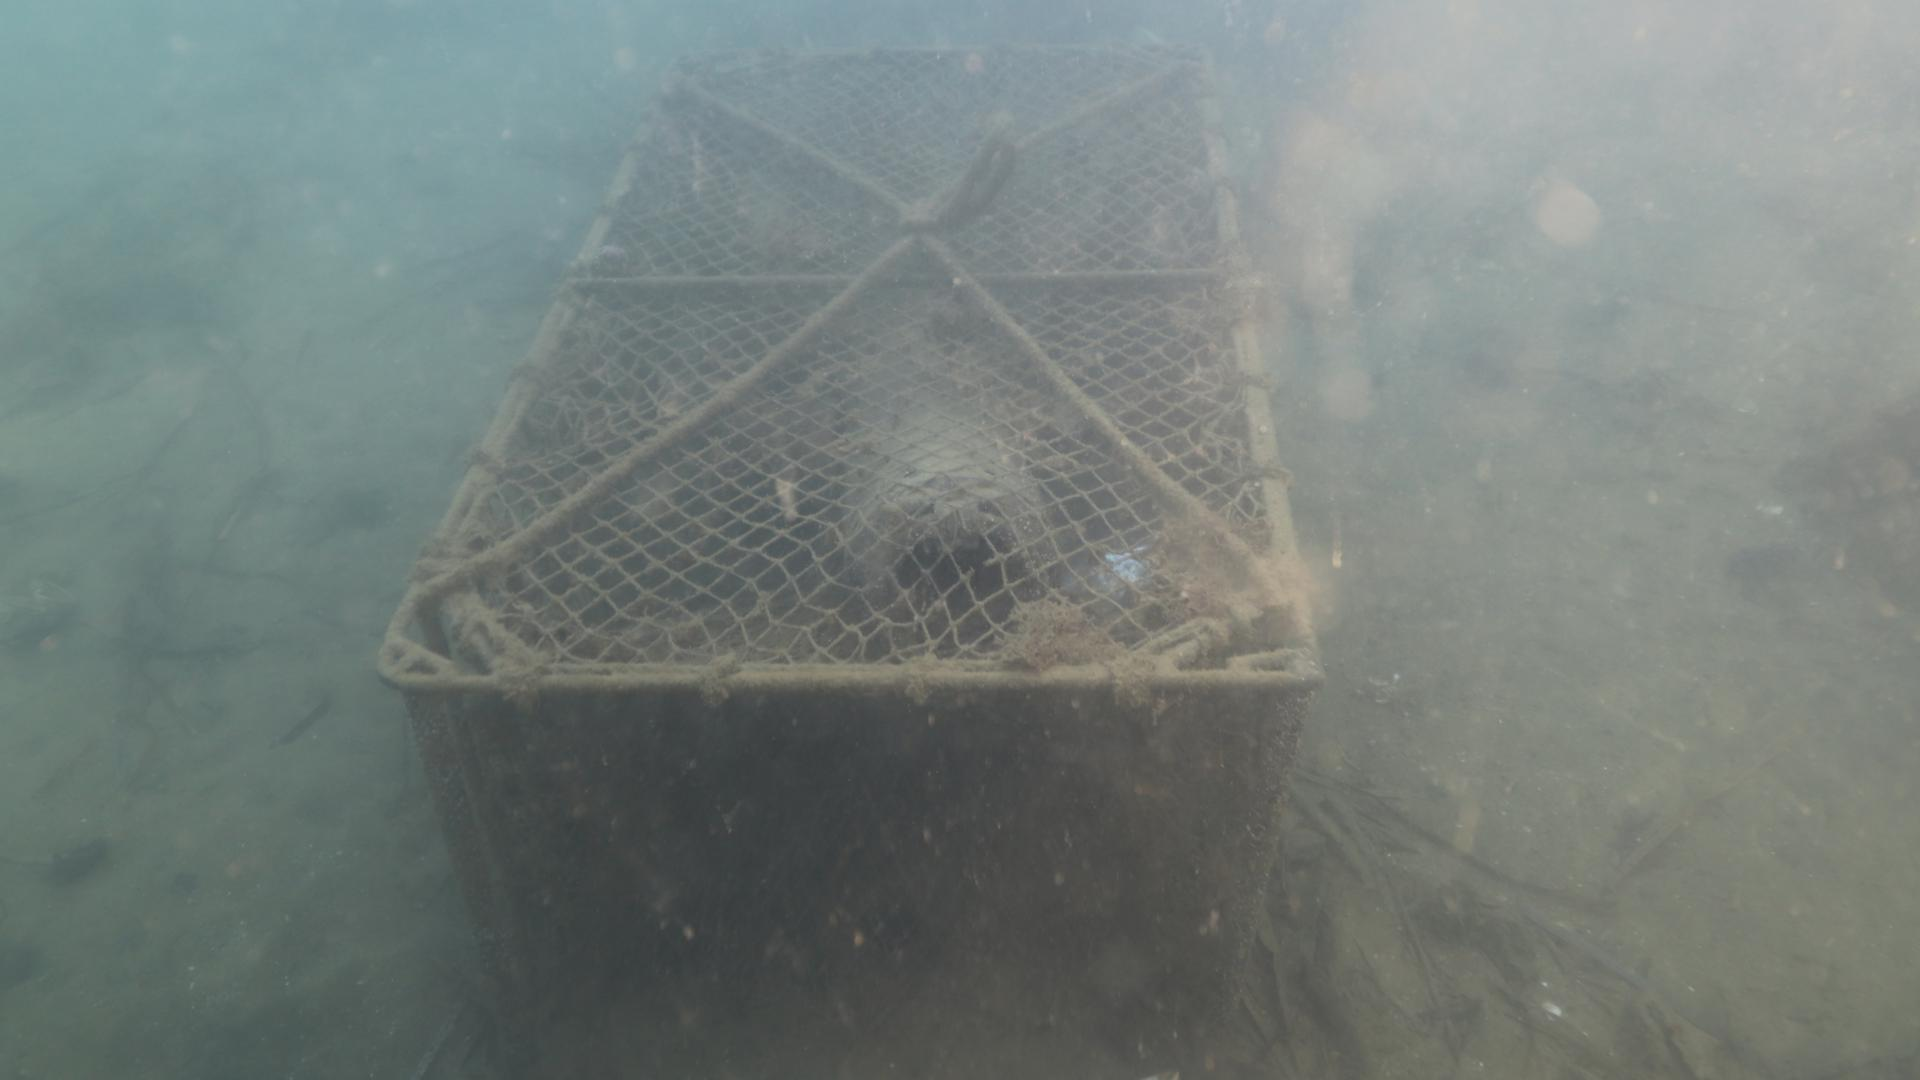rectangular fish trap: (375, 33, 1327, 1080)
